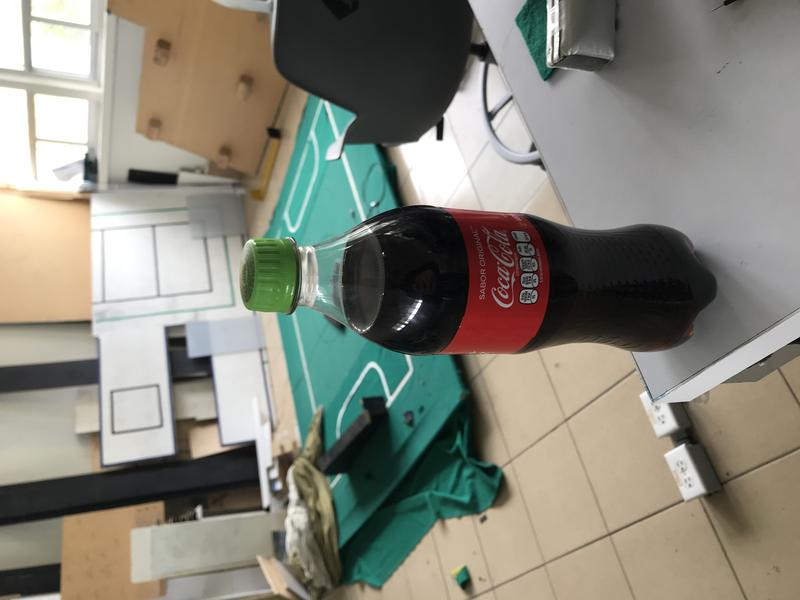coca_cola: (237, 204, 718, 355)
